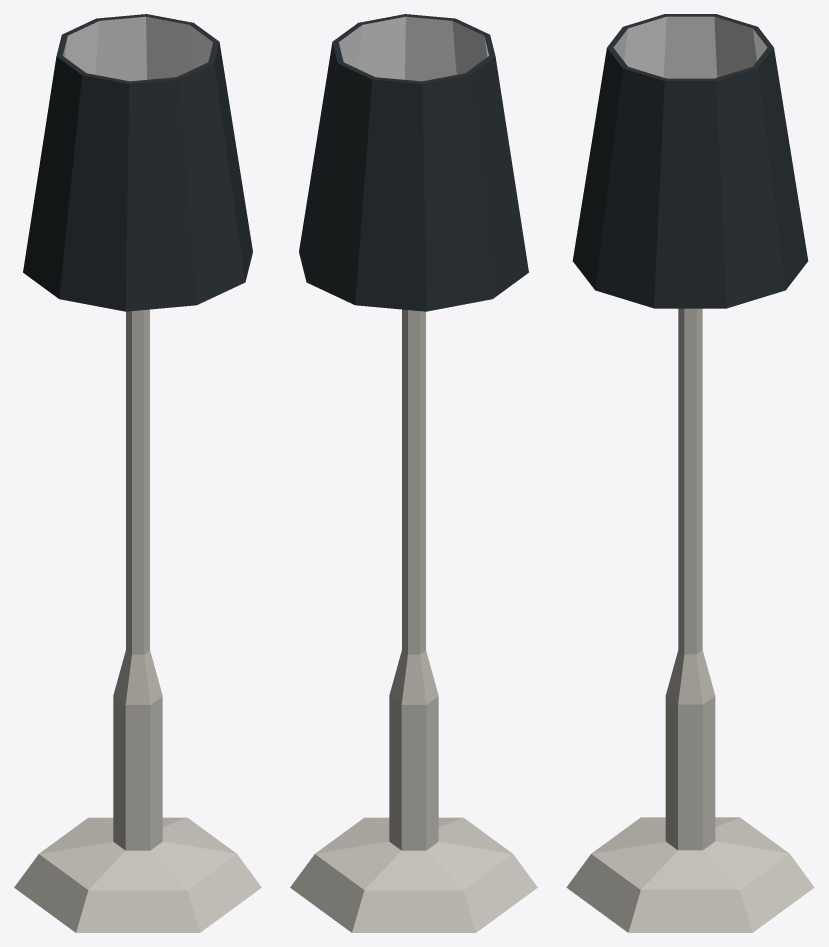
Rendered from floor_lamp.fbx.
3 views of the same model, side by side, from view 1: azimuth 30°, elevation 25°; view 2: azimuth 150°, elevation 25°; view 3: azimuth 270°, elevation 25° (orthographic).
Visible parts, largest first — view 1: Cylinder.001, Cylinder; view 2: Cylinder.001, Cylinder; view 3: Cylinder.001, Cylinder.
Part boxes in pixels (bbox=[...]): Cylinder.001: bbox=[23, 14, 252, 311]; Cylinder: bbox=[14, 309, 261, 932]; Cylinder.001: bbox=[299, 14, 528, 311]; Cylinder: bbox=[290, 309, 537, 932]; Cylinder.001: bbox=[572, 14, 808, 308]; Cylinder: bbox=[566, 308, 814, 932].
Bounding box in the file's own units: 90.25 × 373 × 100.
